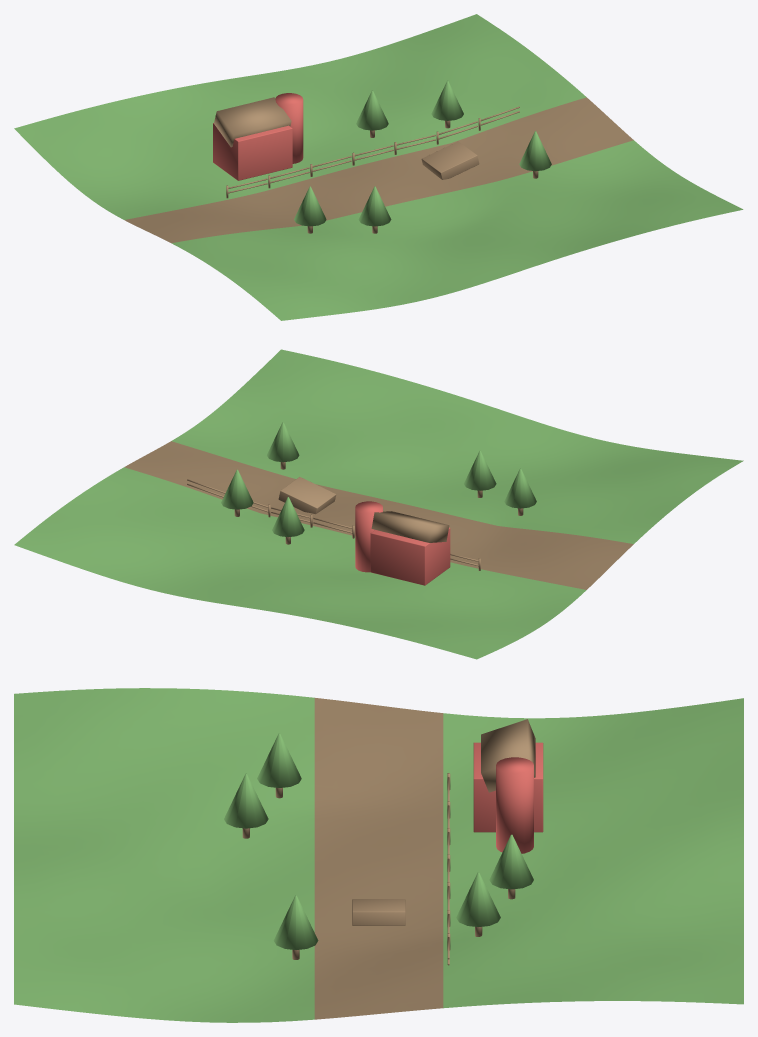
Rendered from chapter_01_ranch.glb.
3 renders of one model, top to bottom at view 1: azimuth 30°, elevation 25°; view 2: azimuth 150°, elevation 25°; view 3: azimuth 270°, elevation 25°, orthographic. The views are drawn at different scales.
Parts seen in each view (by area): view 1: Chapter_Environment; view 2: Chapter_Environment; view 3: Chapter_Environment.
Part boxes in pixels (x1,y1,x2,y2): Chapter_Environment: [14, 14, 743, 320]; Chapter_Environment: [14, 349, 743, 659]; Chapter_Environment: [14, 688, 743, 1022].
Bounding box in the file's own units: 44 × 5.82 × 44.
